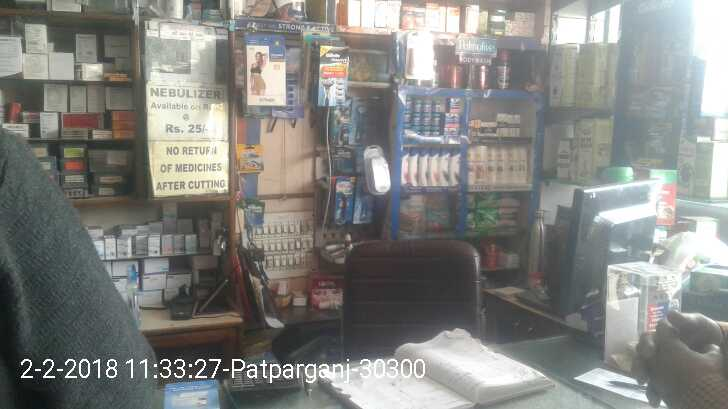beauty: (348, 87, 371, 153), (331, 172, 353, 231), (316, 64, 345, 105), (334, 99, 350, 148), (473, 140, 486, 186), (496, 146, 507, 183), (518, 144, 528, 184), (416, 147, 426, 186), (438, 148, 448, 187), (507, 111, 522, 137), (450, 145, 459, 188), (495, 111, 509, 138), (467, 145, 476, 186), (508, 144, 517, 184), (428, 148, 437, 185), (400, 146, 408, 186), (487, 145, 495, 185), (409, 148, 417, 185), (480, 119, 496, 137)
pharmacy: (427, 192, 453, 232), (494, 205, 521, 230), (476, 207, 496, 228), (443, 111, 463, 131), (474, 190, 494, 210), (496, 192, 525, 204), (446, 96, 463, 114), (409, 113, 425, 129), (409, 99, 422, 114), (421, 111, 433, 125), (431, 112, 442, 127), (420, 101, 435, 112), (435, 100, 445, 112)
